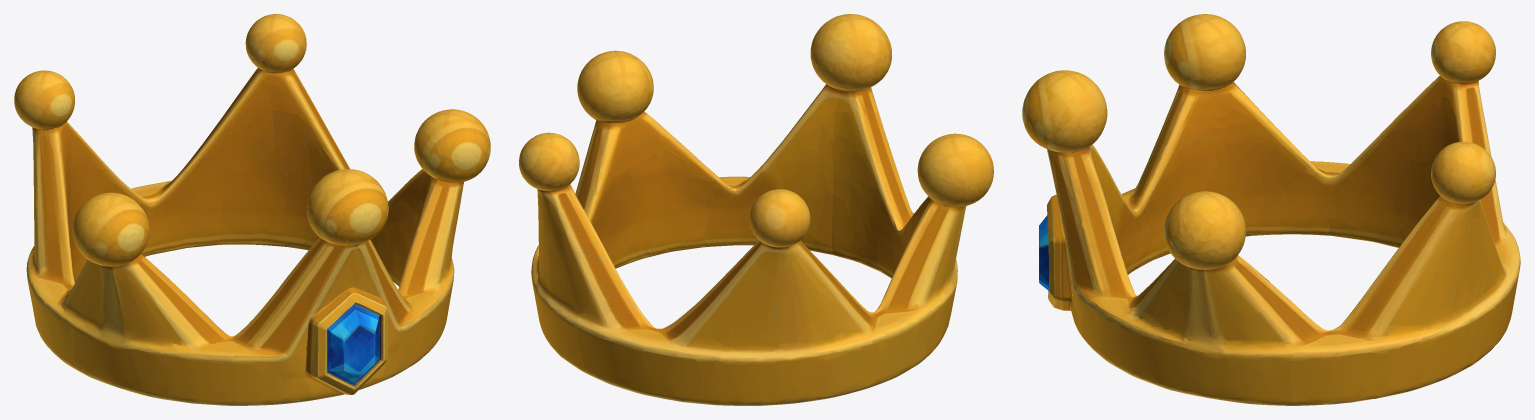
File: sym-crown.glb
3 views of the same model, side by side, from view 1: azimuth 30°, elevation 25°; view 2: azimuth 150°, elevation 25°; view 3: azimuth 270°, elevation 25° (orthographic). The views are drawn at different scales.
Visible parts, largest first — view 1: output_unwrapped; view 2: output_unwrapped; view 3: output_unwrapped.
Boxes of the visible parts, x1,y1,x2,y2 form: output_unwrapped: (14,14,490,405); output_unwrapped: (519,14,993,405); output_unwrapped: (1022,14,1520,405).
Bounding box in the file's own units: 1.9 × 1.01 × 1.89.
Materials: 1 (1 with a texture image).
